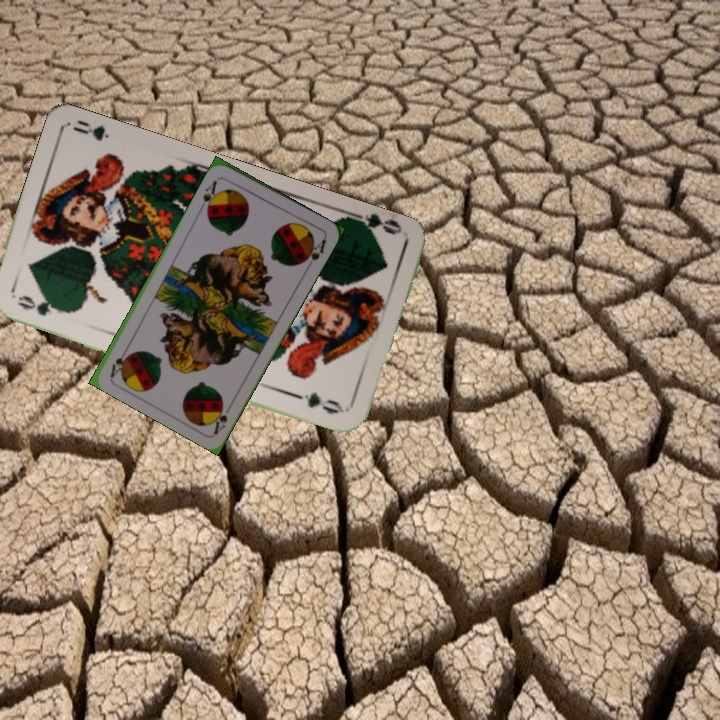GO: (345, 208, 404, 242), (14, 291, 70, 319)
SA: (208, 398, 235, 436), (199, 175, 222, 215)
